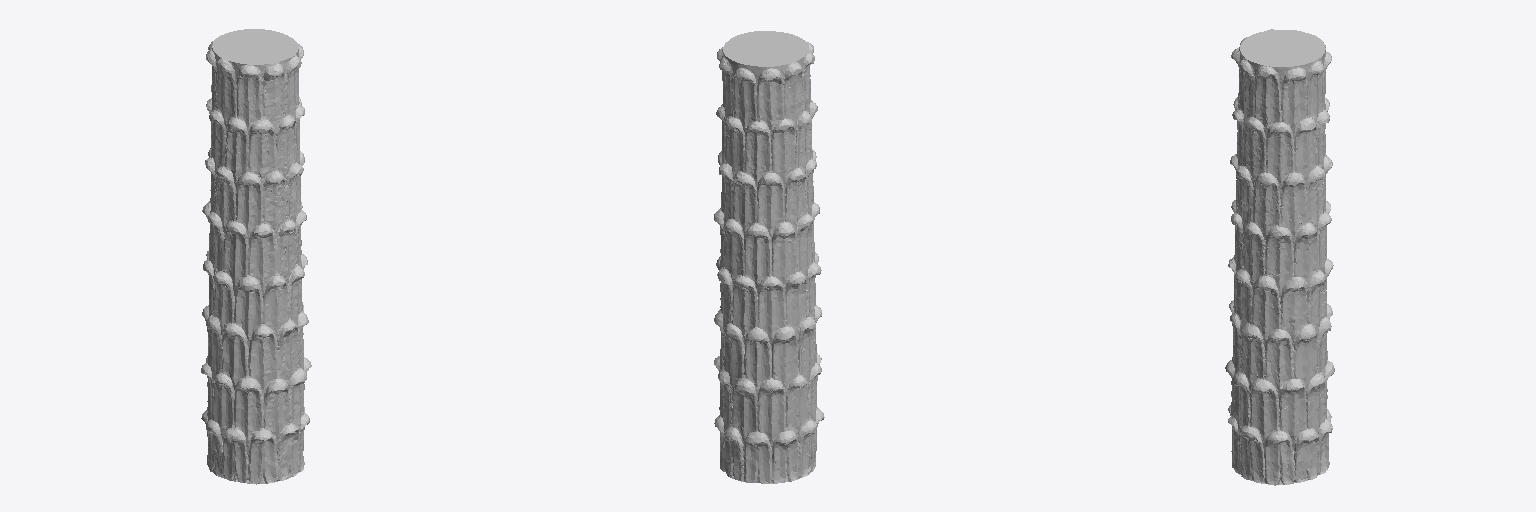
Rendered from florian_first_storey.obj.
The picture shows the model from 3 angles: view 1: azimuth 30°, elevation 25°; view 2: azimuth 150°, elevation 25°; view 3: azimuth 270°, elevation 25°; orthographic projection.
Visible parts, largest first — view 1: Florian_first_storey; view 2: Florian_first_storey; view 3: Florian_first_storey.
Part boxes in pixels (x1,y1,x2,y2): Florian_first_storey: (201,29,311,484); Florian_first_storey: (714,31,824,483); Florian_first_storey: (1225,29,1334,485).
Bounding box in the file's own units: 1.22 × 5.1 × 1.21.